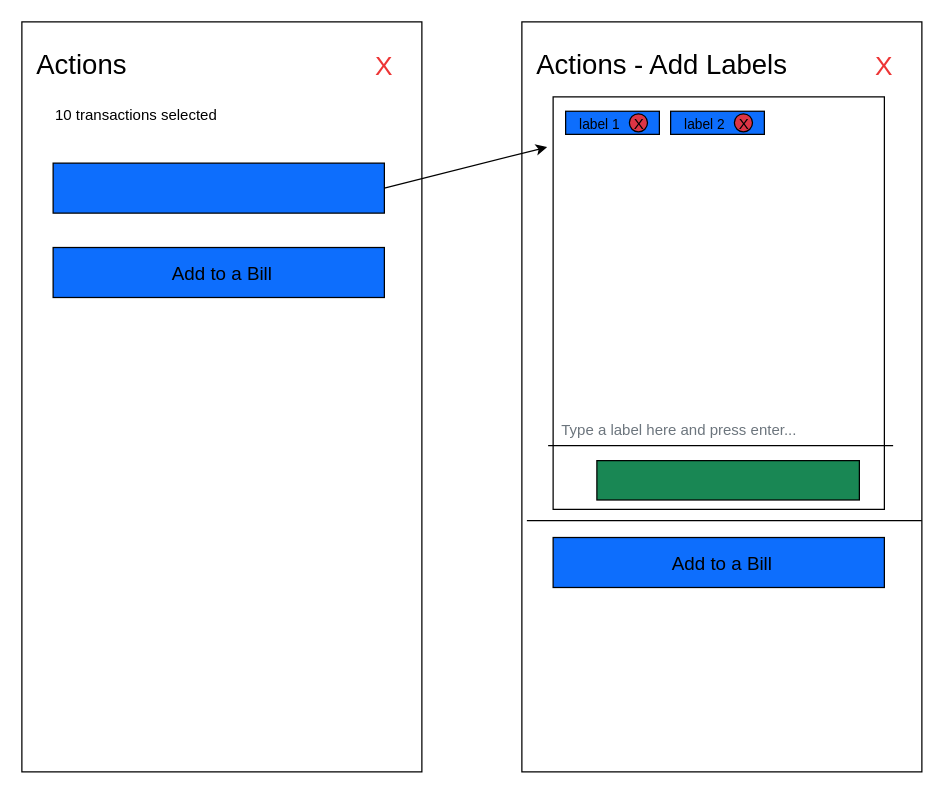
Some shapes in this 945 by 794 pixel diagram are drawn without their labels. Here are the shapes that lost their labels. From the top down, the centre of each, then its label:
the point at 218,187: Add Labels
the point at 727,479: Save
